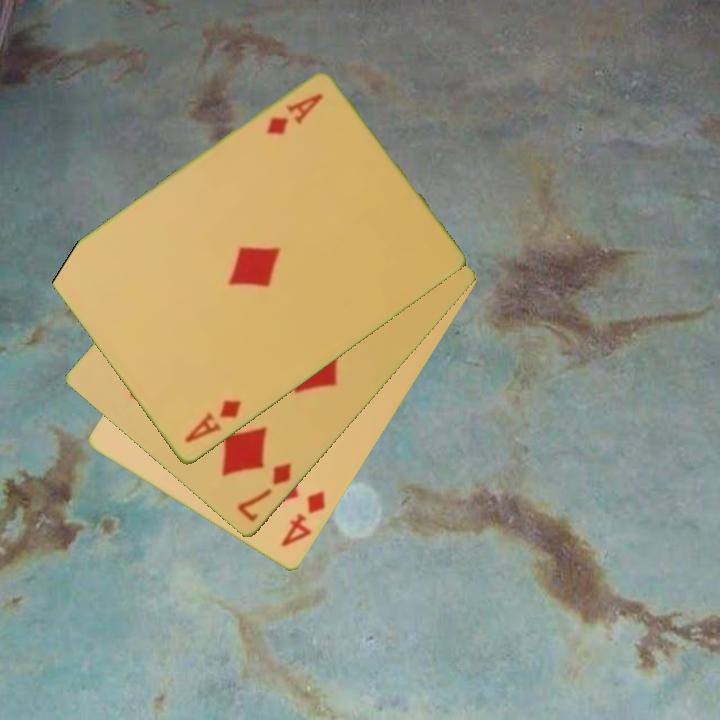4d: (277, 487, 329, 551)
7d: (233, 459, 295, 526)
Ad: (180, 396, 244, 447), (262, 90, 326, 139)
